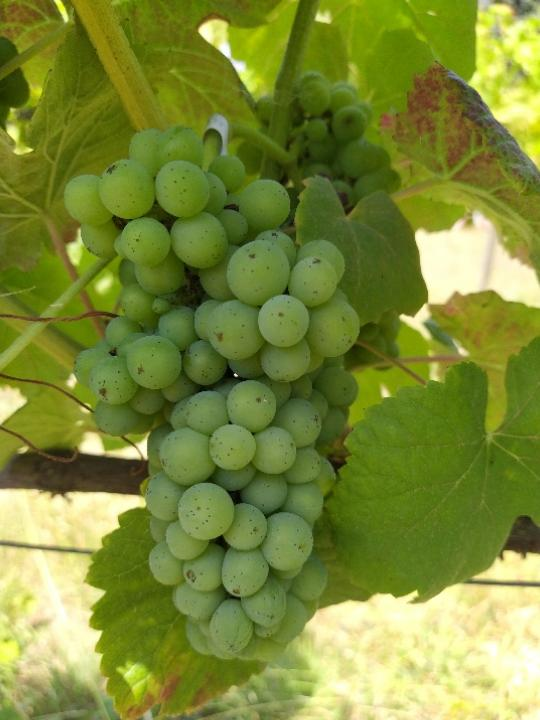grape: (66, 117, 369, 664)
